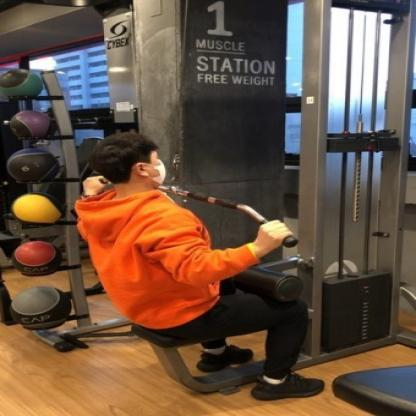Lat Pull Down: (33, 0, 416, 416)
